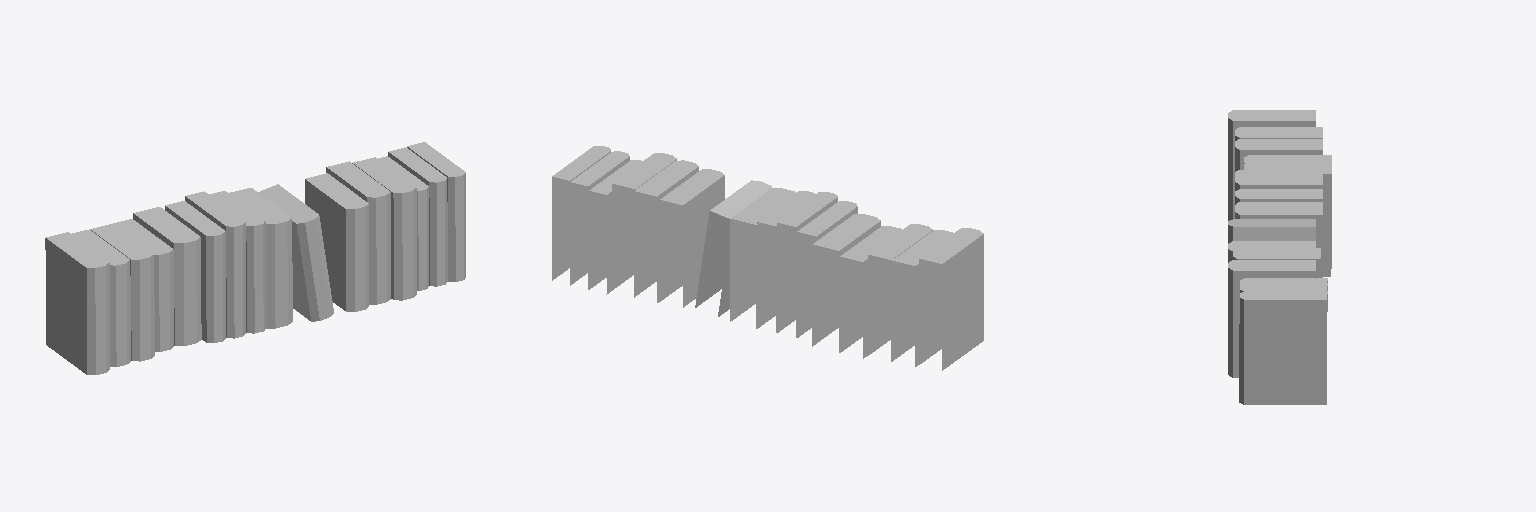
File: BookGroup_Medium_1.obj
3 views of the same model, side by side, from view 1: azimuth 30°, elevation 25°; view 2: azimuth 150°, elevation 25°; view 3: azimuth 270°, elevation 25° (orthographic).
Visible parts, largest first — view 1: BookGroup_Medium_1_Cube.024; view 2: BookGroup_Medium_1_Cube.024; view 3: BookGroup_Medium_1_Cube.024.
Boxes of the visible parts, <box> form: BookGroup_Medium_1_Cube.024: <box>45,142,465,374</box>; BookGroup_Medium_1_Cube.024: <box>552,146,983,370</box>; BookGroup_Medium_1_Cube.024: <box>1228,110,1331,404</box>.
Size of the model in its own units: 1.06 by 0.2983 by 0.2475.